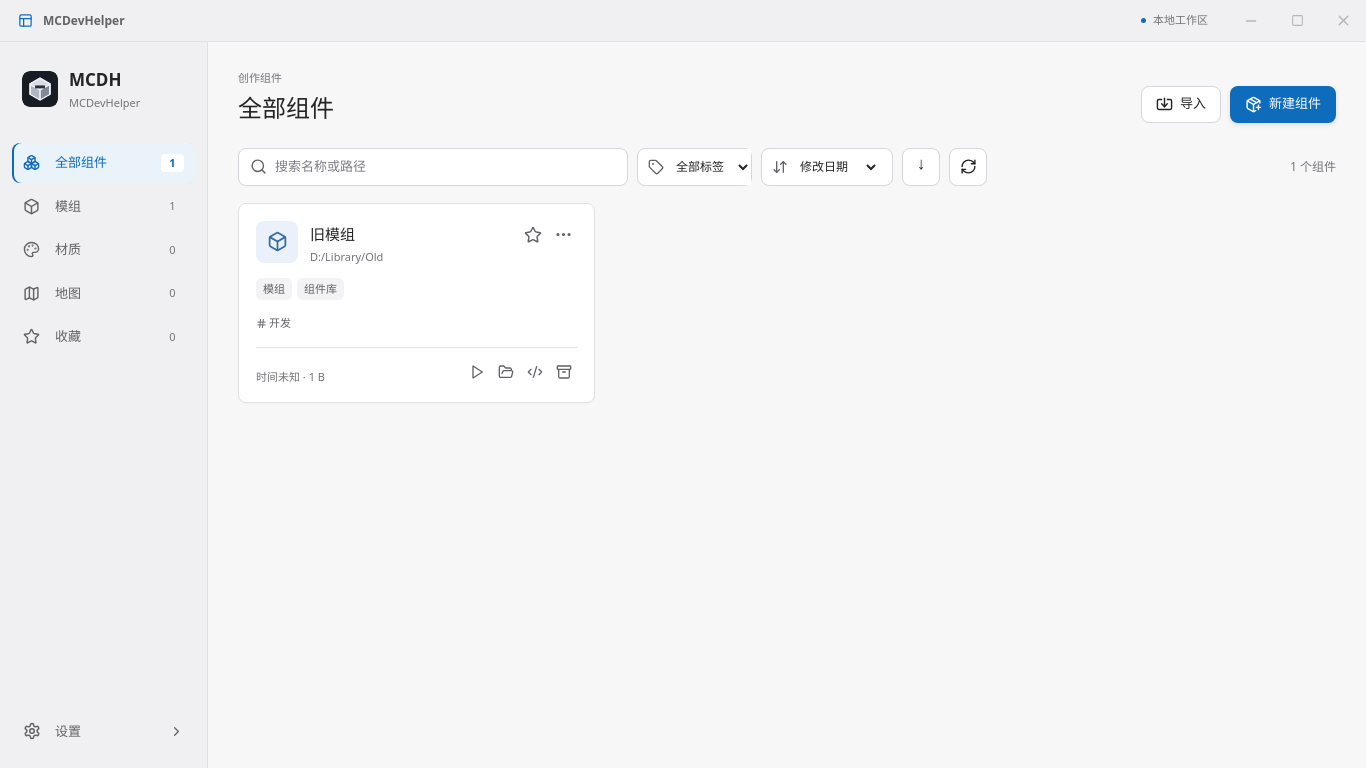
Scenario: component workspace filters › adds the create result without refreshing or resetting filters
The width and height of the screenshot is (1366, 768).
Check: the heading "旧模组" is shown, box [310,224,355,244]
Type "模组" into the field with placeholder "搜索名称或路径" at (446, 167), box [275,157,616,176]
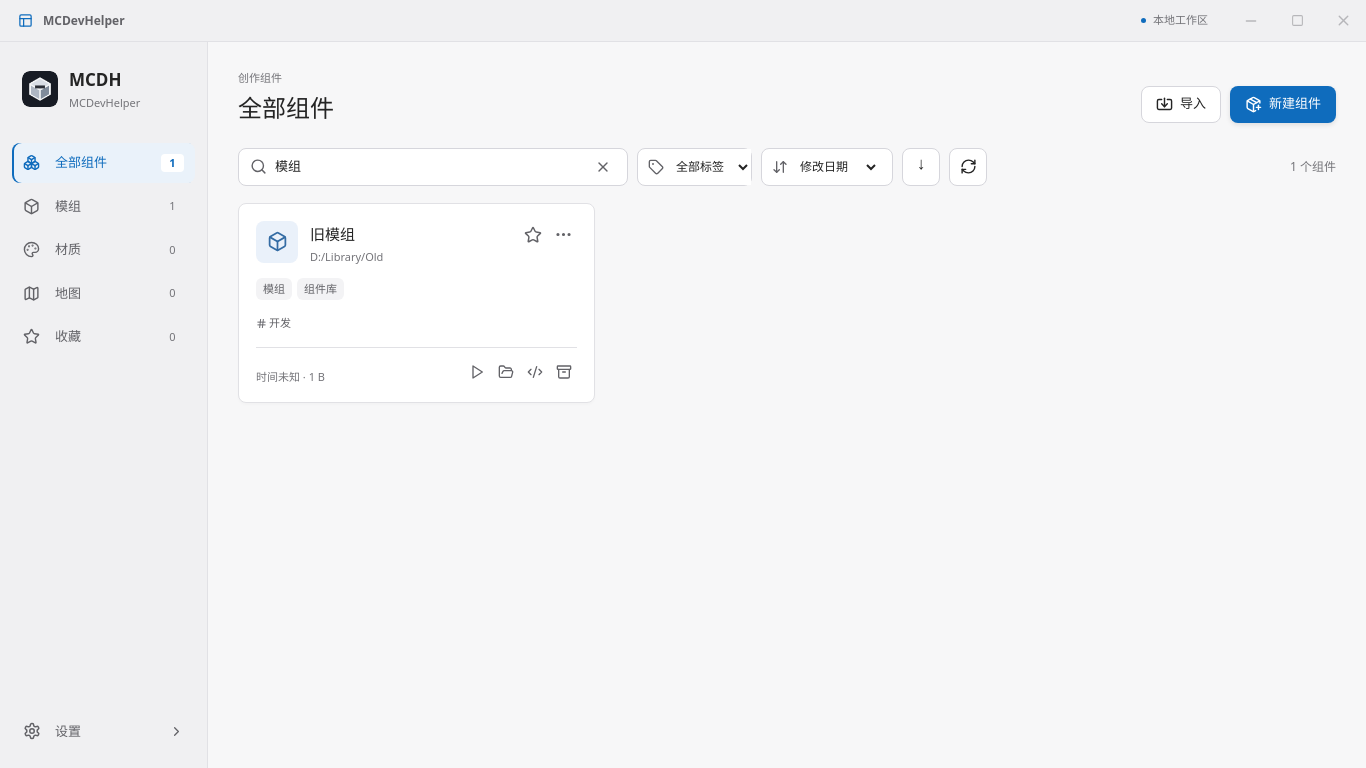
Click the button "新建组件" at (1283, 104), box [1230,86,1336,123]
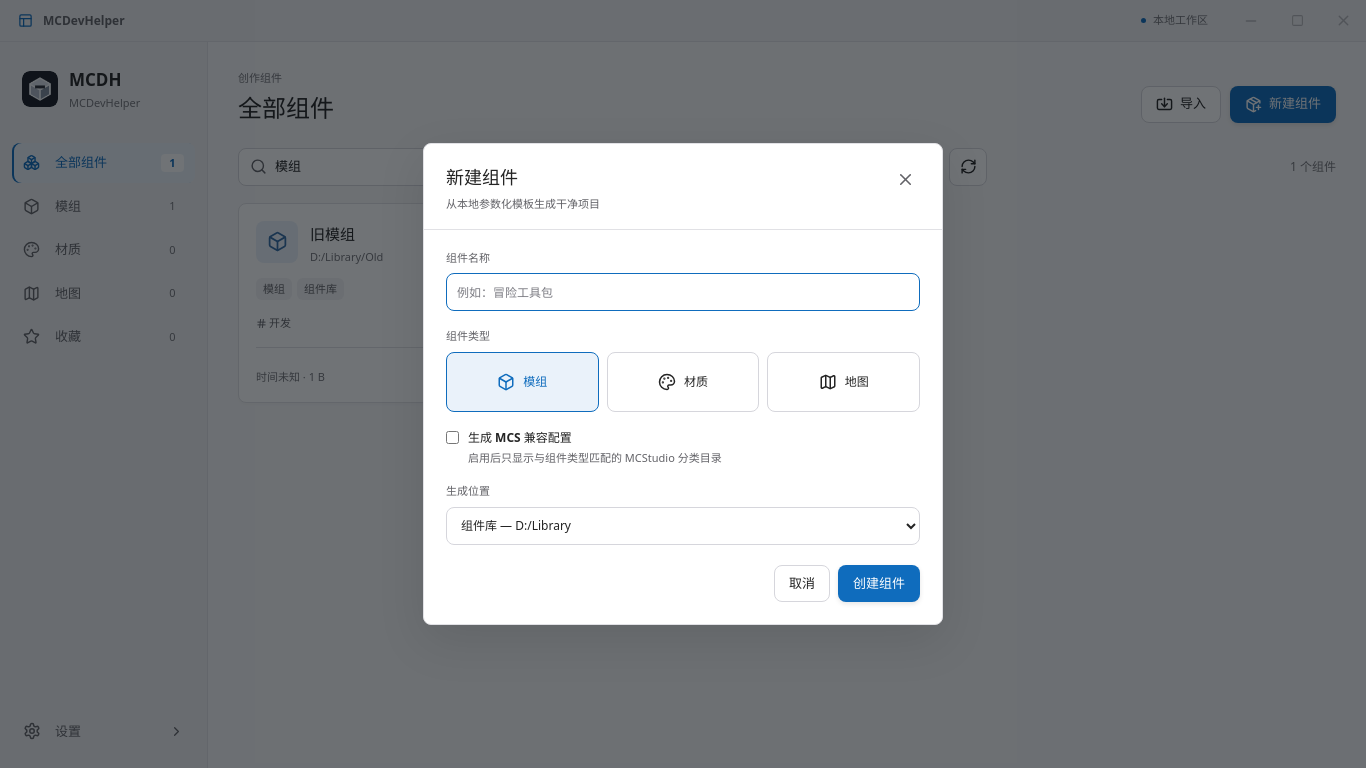
Type "新模组" into the field labelled "组件名称" at (683, 292), box [446,273,920,311]
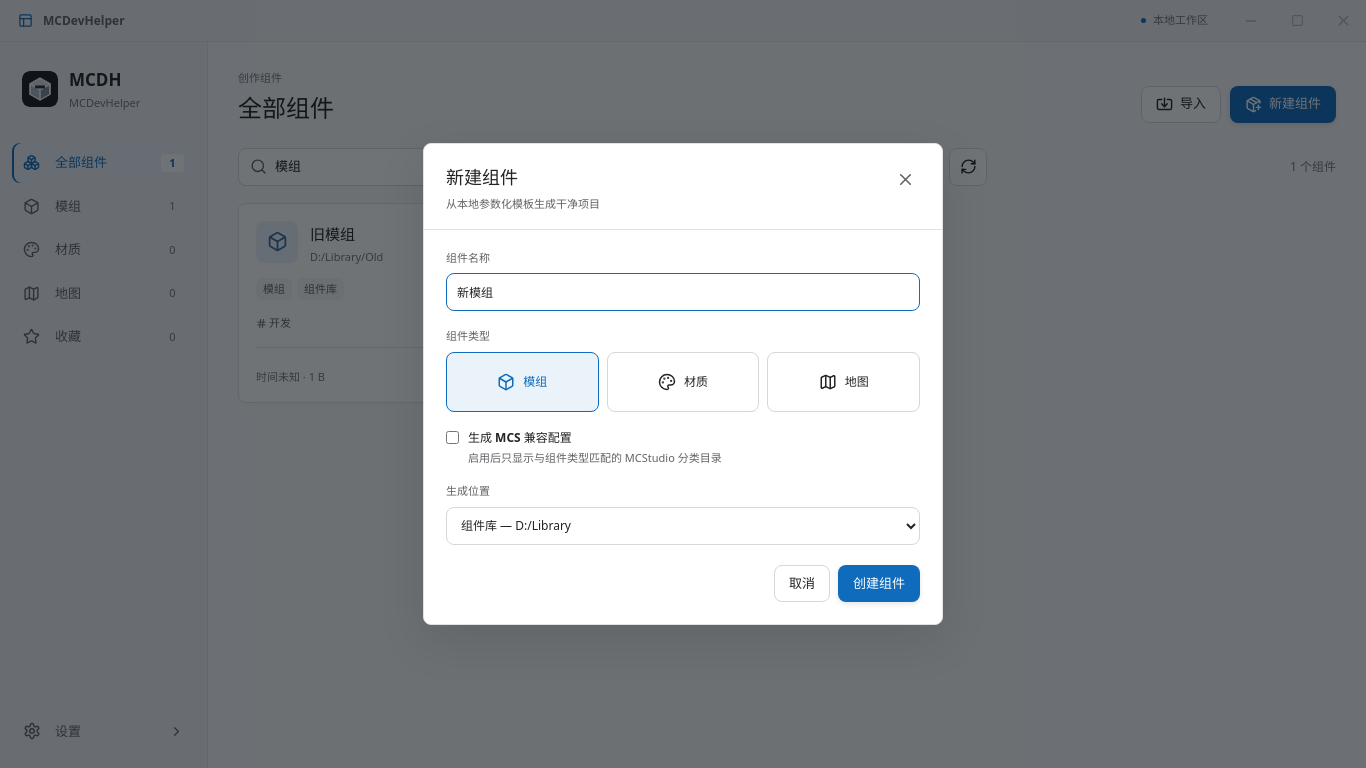
Click the button "创建组件" at (879, 583), box [838,565,920,602]
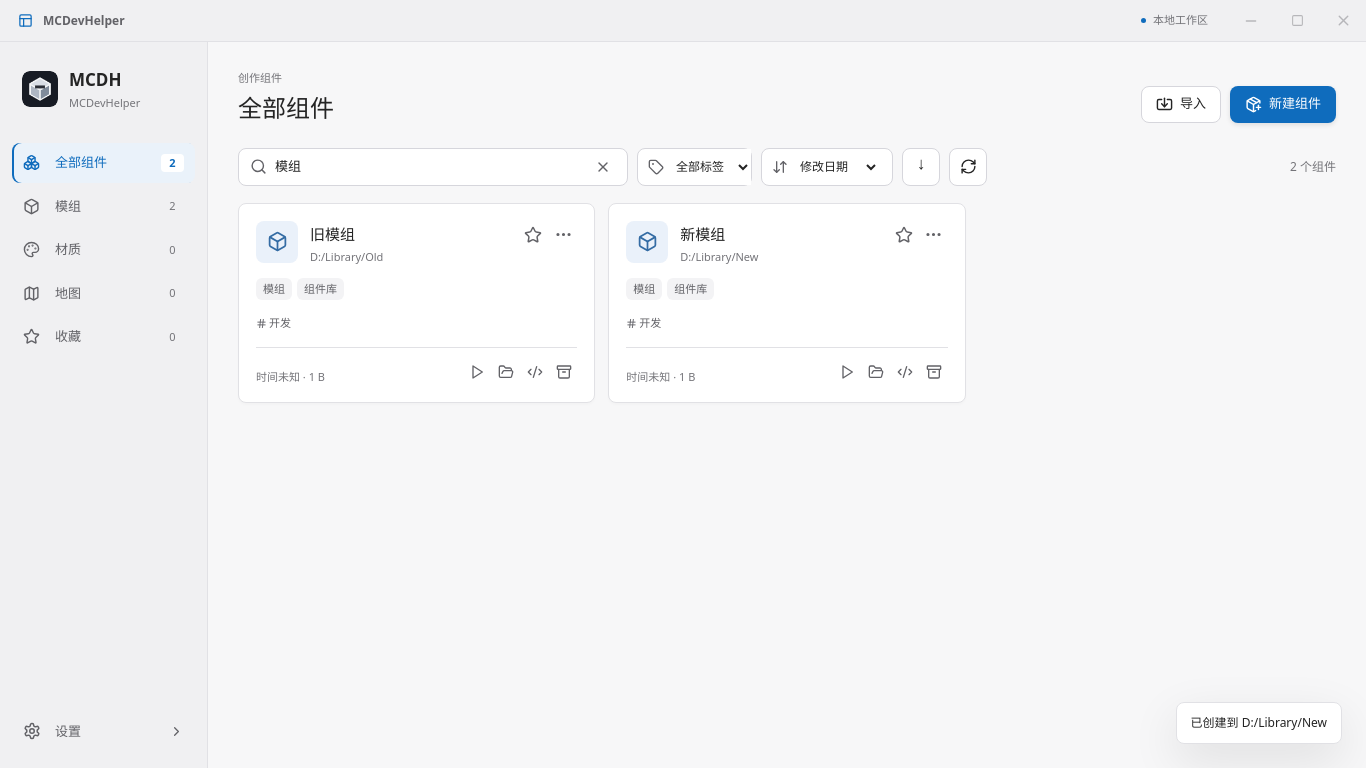
Check: the heading "旧模组" is shown, box [310,224,355,244]
Check: the heading "新模组" is shown, box [680,224,725,244]
